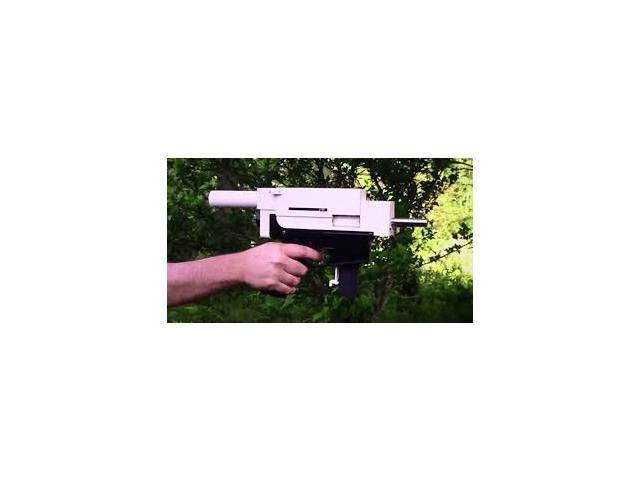rifle: (199, 177, 431, 306)
